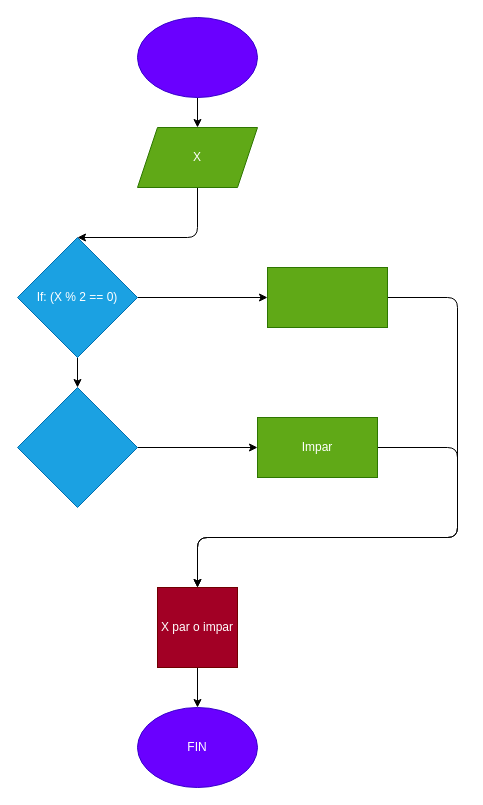
The diagram is 483 pixels wide and 805 high, and some of its shapes have lost their labels. Here are the shapes that lost their labels. From the top down, the centre of each, then its label:
At [197,57]: "INICIO".
At [327,297]: "Par".
At [77,447]: "Else: (X % 2 == 0)".
